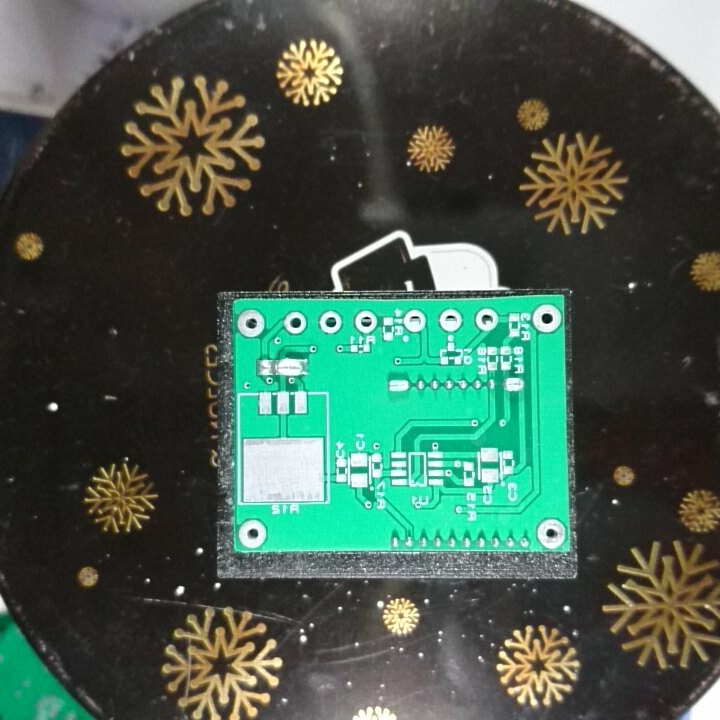F: (235, 308, 268, 340), (237, 517, 270, 549), (536, 517, 567, 551), (531, 303, 562, 335), (472, 306, 501, 332), (438, 306, 464, 332), (282, 310, 307, 337), (352, 309, 380, 332), (402, 309, 426, 335), (317, 309, 345, 331)
P: (273, 357, 309, 378), (501, 375, 528, 394), (387, 378, 412, 395)
